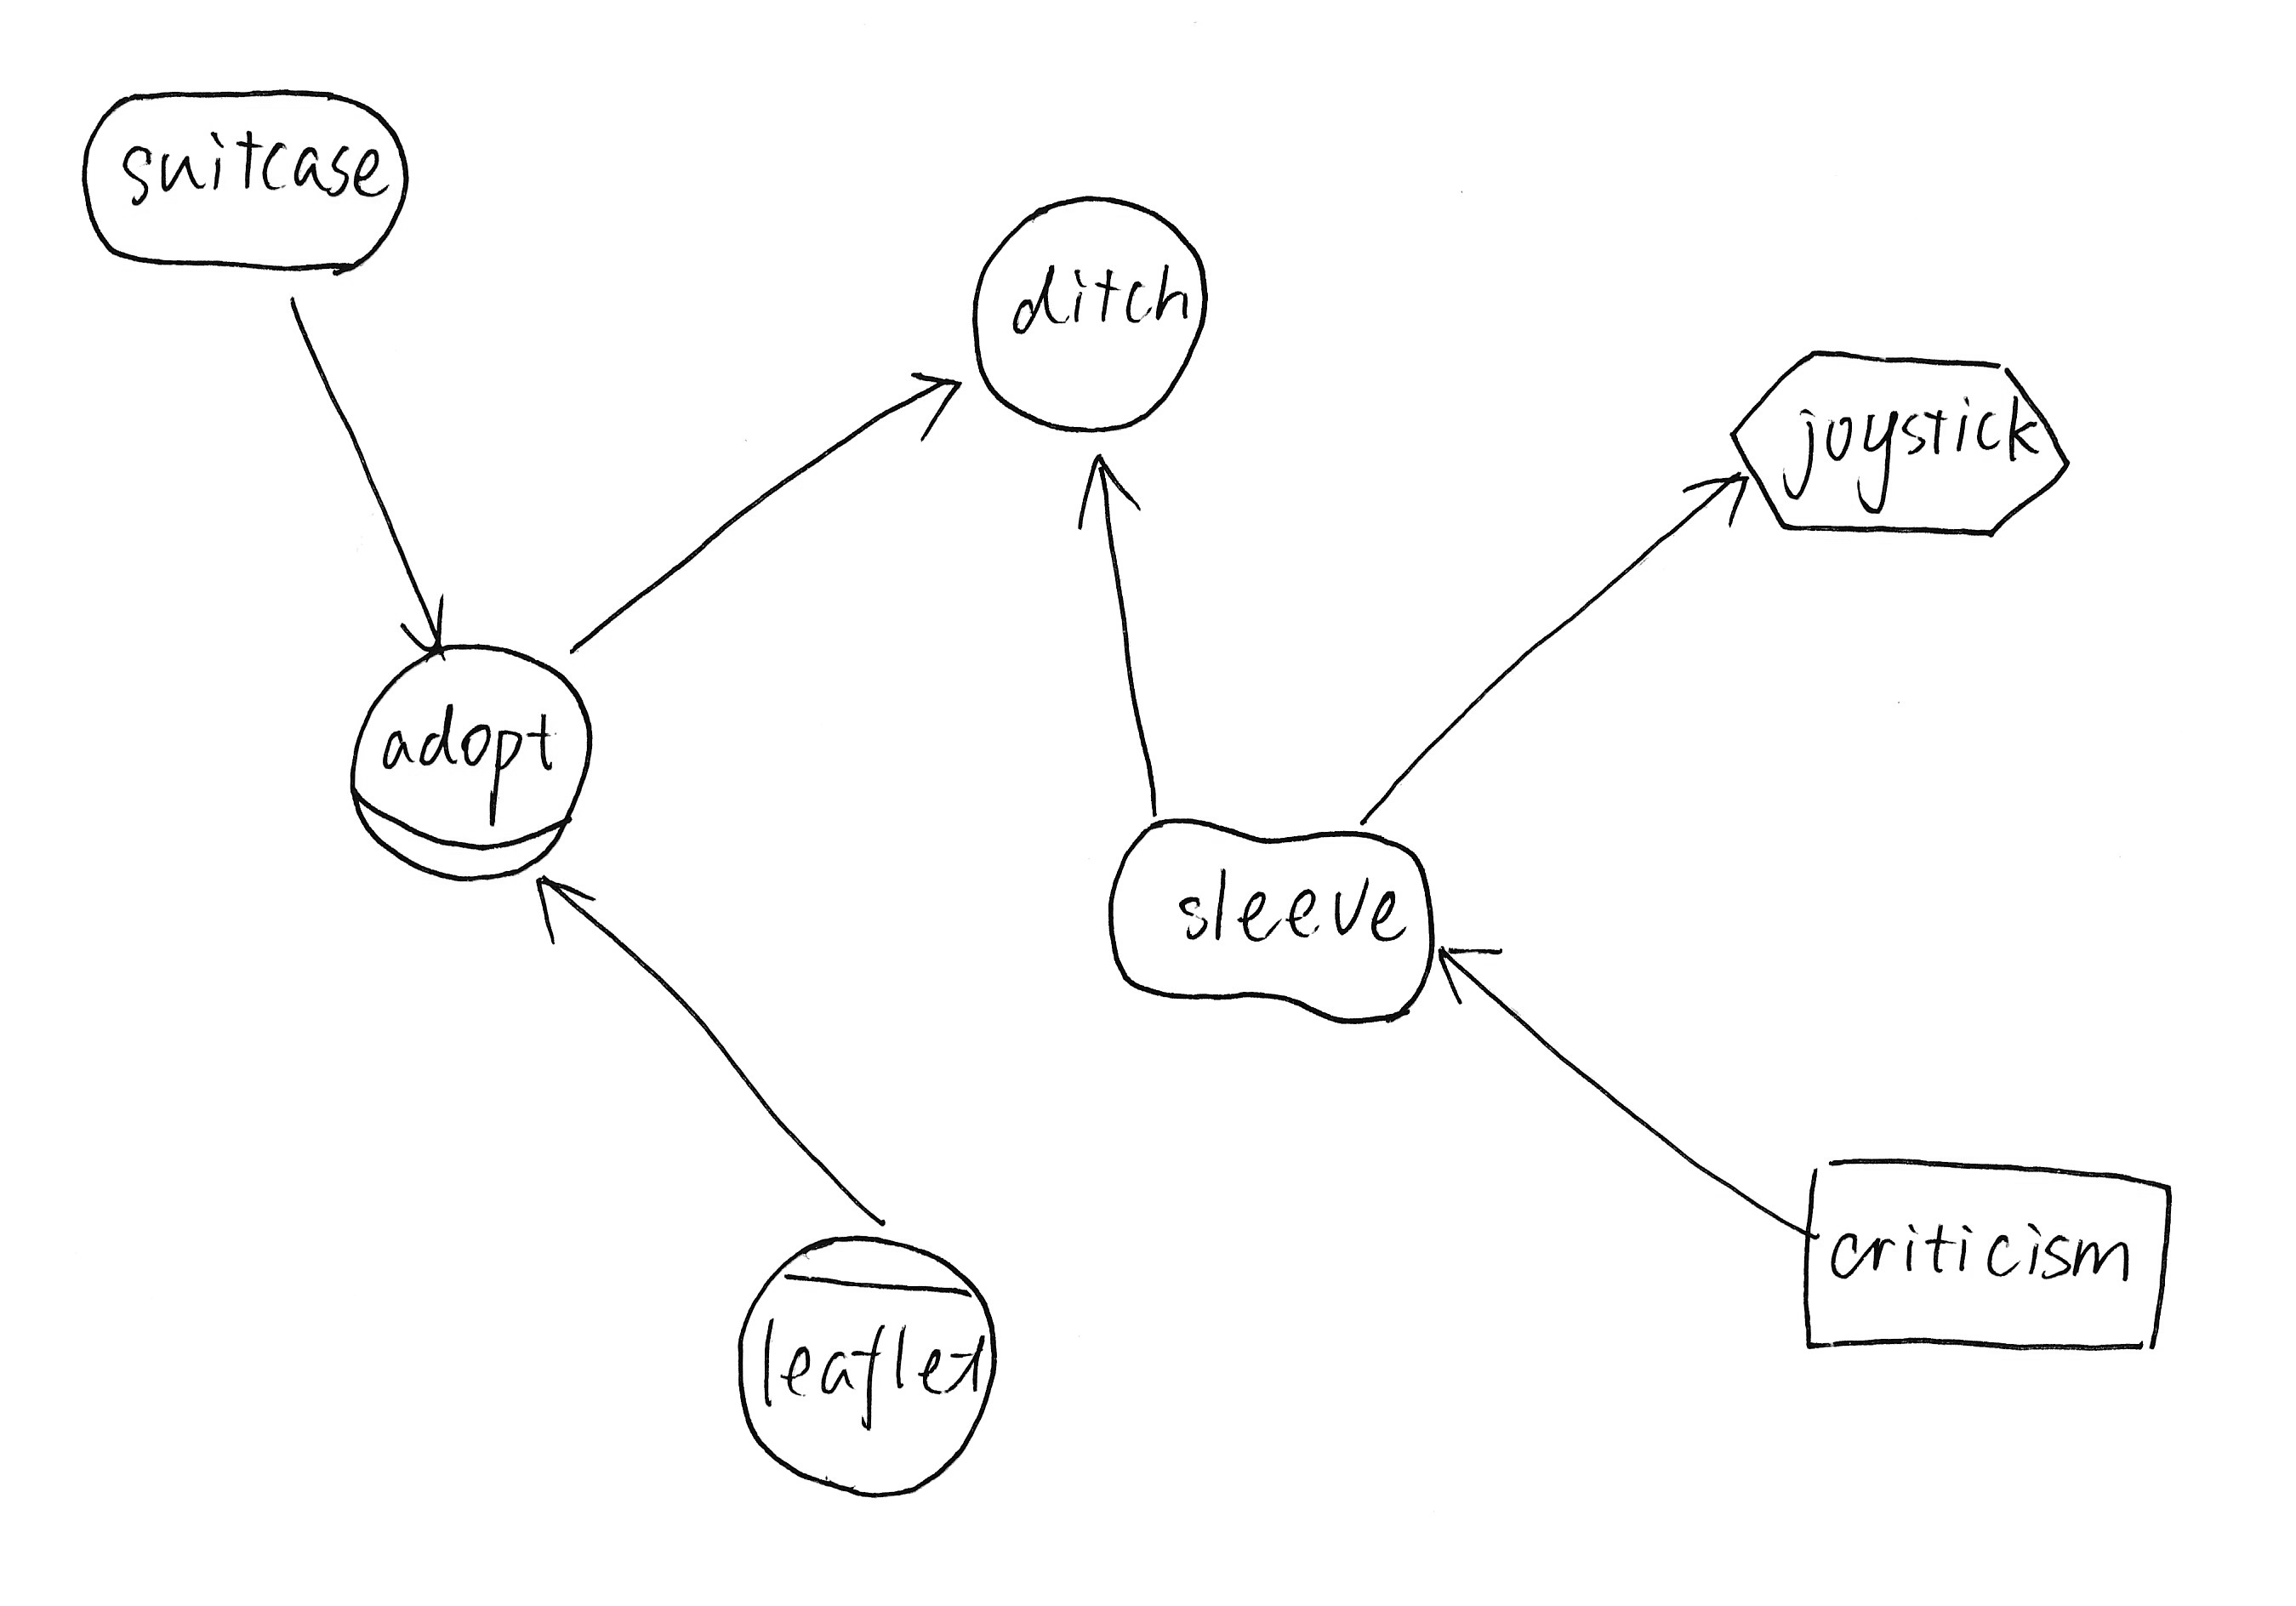actor: (1087, 809, 1450, 1034), (958, 173, 1227, 452)
agent: (714, 1214, 1012, 1524)
arrow: (1418, 928, 1525, 1020), (1066, 441, 1153, 549), (1675, 455, 1762, 556), (515, 860, 609, 950), (902, 349, 975, 462), (382, 591, 468, 668)
goal: (61, 66, 420, 286)
resource: (1781, 1139, 2190, 1381)
role: (337, 624, 612, 882)
task: (1713, 331, 2083, 558)
